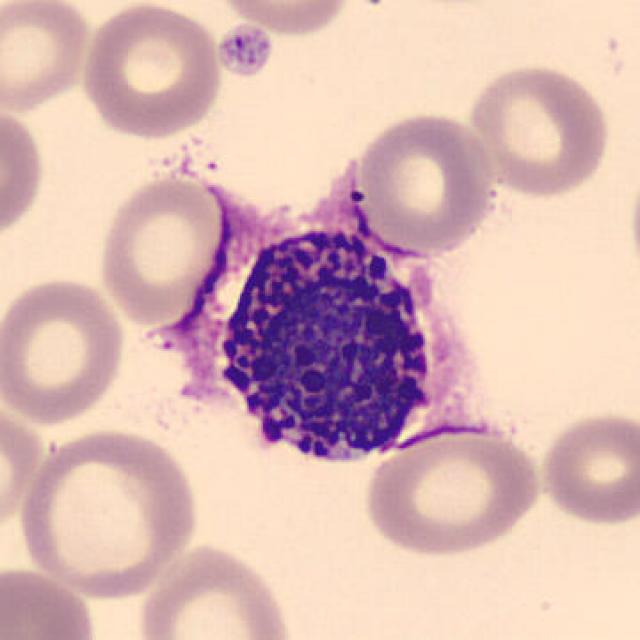Basophil: (128, 150, 501, 476)
Platelets: (213, 21, 274, 79), (354, 0, 389, 11)
RBC: (12, 423, 204, 601), (359, 418, 546, 561), (92, 169, 244, 326), (350, 106, 498, 257), (462, 58, 614, 201), (76, 0, 224, 141), (0, 272, 130, 428), (133, 539, 298, 640), (535, 407, 638, 527), (0, 0, 94, 115), (0, 562, 101, 639), (0, 101, 48, 245), (0, 393, 43, 543), (210, 0, 354, 39), (213, 21, 276, 79), (626, 155, 640, 296)
